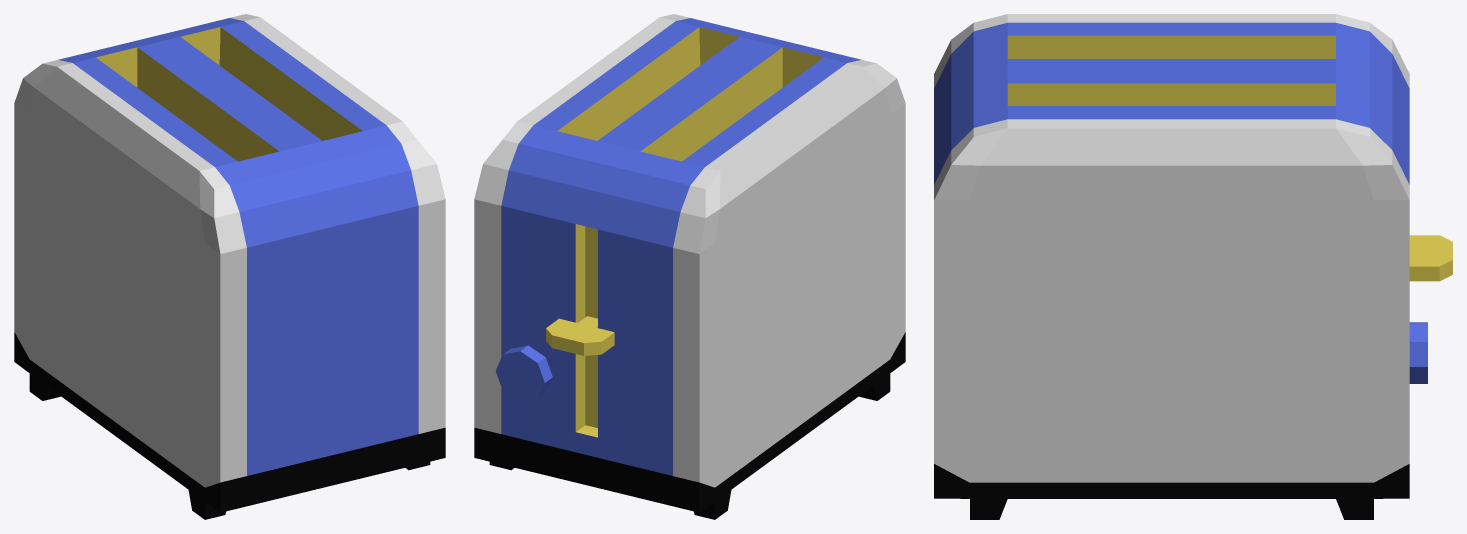
File: toaster.fbx
3 renders of one model, left to right at view 1: azimuth 30°, elevation 25°; view 2: azimuth 150°, elevation 25°; view 3: azimuth 270°, elevation 25°, orthographic. The views are drawn at different scales.
Visible parts, largest first — view 1: Cube; view 2: Cube; view 3: Cube.
Part boxes in pixels (<box>): Cube: <box>14,14,445,519</box>; Cube: <box>474,14,905,519</box>; Cube: <box>934,14,1452,519</box>.
Size of the model in its own units: 140 by 198 by 242.
